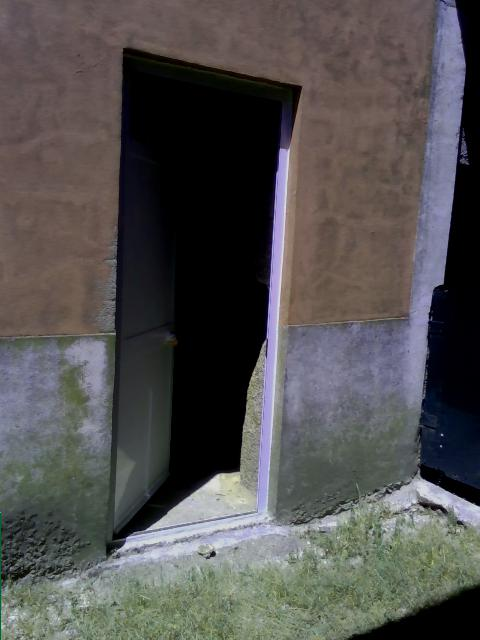semi_door: (100, 45, 299, 552)
